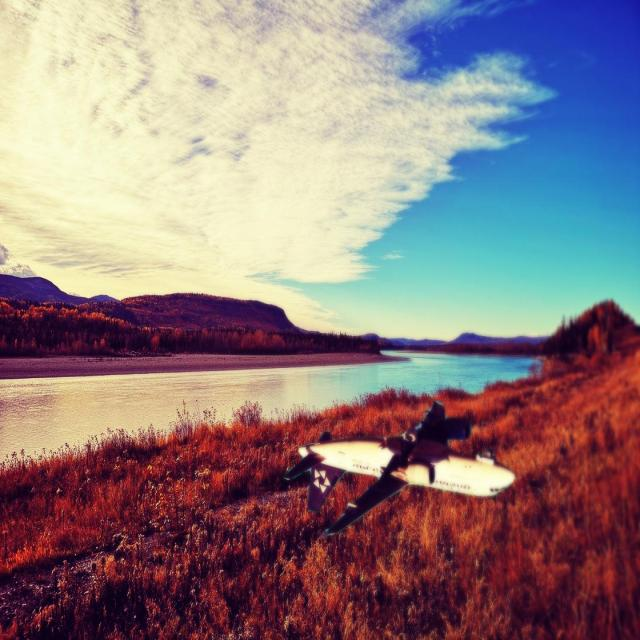airplane: (282, 399, 516, 537)
